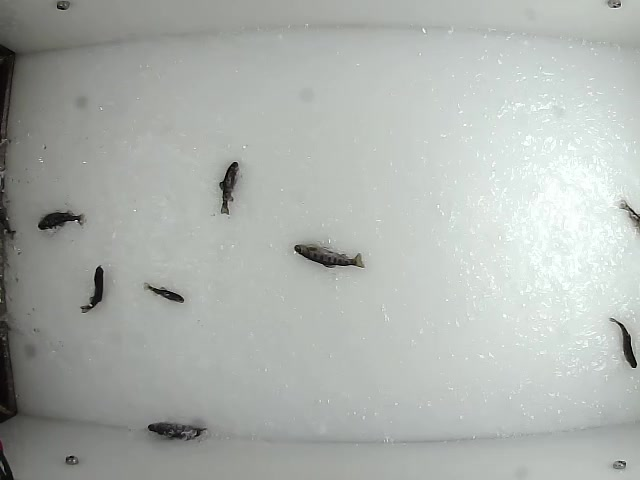fish: (292, 239, 367, 273), (145, 414, 209, 441), (609, 316, 639, 371), (215, 156, 241, 216), (78, 265, 105, 319), (37, 209, 86, 232), (142, 279, 186, 304)
